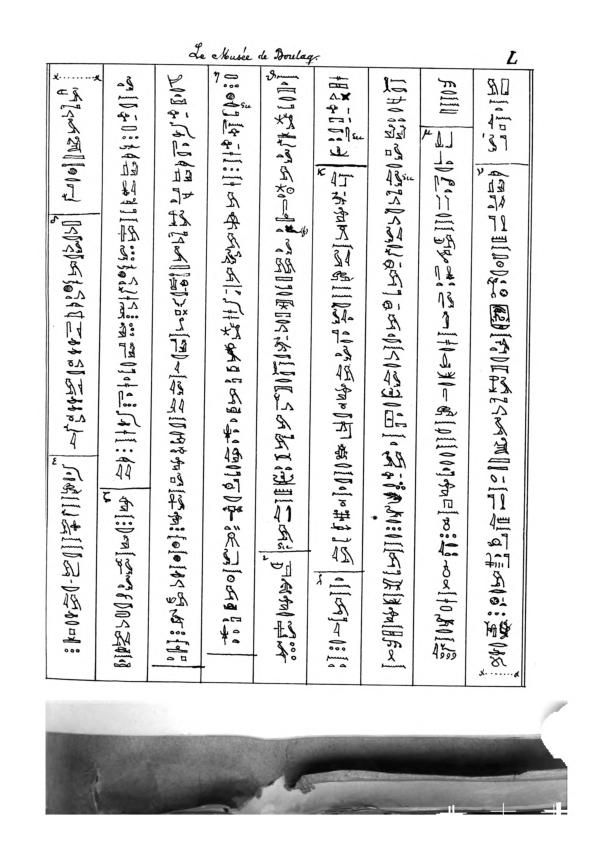circle: (489, 302, 514, 340)
